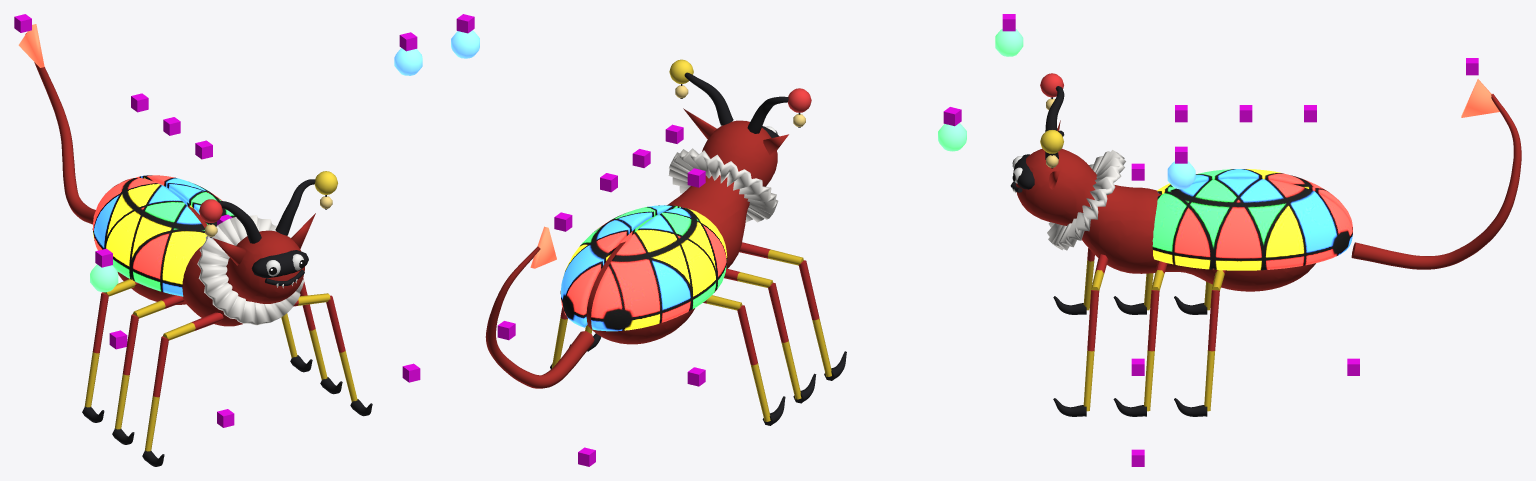
Rendered from 05_alichino_arlecchino.glb.
The picture shows the model from 3 angles, left to right: view 1: azimuth 30°, elevation 25°; view 2: azimuth 150°, elevation 25°; view 3: azimuth 270°, elevation 25°; orthographic projection. The views are drawn at different scales.
Visible parts, largest first — view 1: Alichino__Elitre_Rombi, Alichino__Pelle_Rossa, Alichino__Gorgiera, Alichino__Maschera_Nera, Alichino__Calze_Gialle, Alichino__Calze_Rosse, Alichino__Esca_Blu, Alichino__Esca_Verde, Alichino__Punta_Coda, Alichino__Pompon_0, Alichino__Pompon_1; view 2: Alichino__Elitre_Rombi, Alichino__Pelle_Rossa, Alichino__Gorgiera, Alichino__Calze_Gialle, Alichino__Maschera_Nera, Alichino__Calze_Rosse, Alichino__Esca_Blu, Alichino__Esca_Verde, Alichino__Punta_Coda; view 3: Alichino__Elitre_Rombi, Alichino__Pelle_Rossa, Alichino__Maschera_Nera, Alichino__Calze_Gialle, Alichino__Gorgiera, Alichino__Calze_Rosse, Alichino__Punta_Coda, Alichino__Esca_Blu, Alichino__Esca_Verde.
Boxes of the visible parts, x1,y1,x2,y2 form: Alichino__Elitre_Rombi: (92,175,235,296); Alichino__Pelle_Rossa: (25,33,315,326); Alichino__Gorgiera: (197,215,304,325); Alichino__Maschera_Nera: (82,179,372,466); Alichino__Calze_Gialle: (84,279,357,451); Alichino__Calze_Rosse: (92,278,345,397); Alichino__Esca_Blu: (394,48,422,75); Alichino__Esca_Verde: (90,264,118,292); Alichino__Punta_Coda: (18,24,44,67); Alichino__Pompon_0: (199,199,222,222); Alichino__Pompon_1: (314,171,337,194); Alichino__Elitre_Rombi: (560,205,727,331); Alichino__Pelle_Rossa: (485,108,788,388); Alichino__Gorgiera: (668,148,778,222); Alichino__Calze_Gialle: (552,249,831,421); Alichino__Maschera_Nera: (550,72,846,425); Alichino__Calze_Rosse: (560,242,819,365); Alichino__Esca_Blu: (451,30,479,58); Alichino__Esca_Verde: (938,123,966,151); Alichino__Punta_Coda: (530,226,556,268); Alichino__Elitre_Rombi: (1152,169,1352,270); Alichino__Pelle_Rossa: (1016,94,1521,291); Alichino__Maschera_Nera: (1010,86,1207,416); Alichino__Calze_Gialle: (1083,259,1224,411); Alichino__Gorgiera: (1047,150,1125,250); Alichino__Calze_Rosse: (1087,248,1225,351); Alichino__Punta_Coda: (1461,79,1504,117); Alichino__Esca_Blu: (1167,161,1195,189); Alichino__Esca_Verde: (995,29,1023,56).
Bounding box in the file's own units: 3.35 × 2.49 × 3.67.
17 materials, 1 textured.
